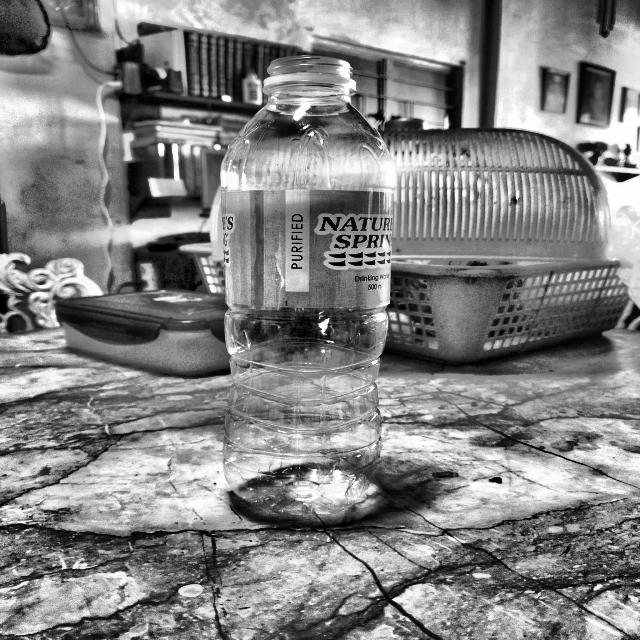Plastic-Bottle: (215, 50, 398, 529)
